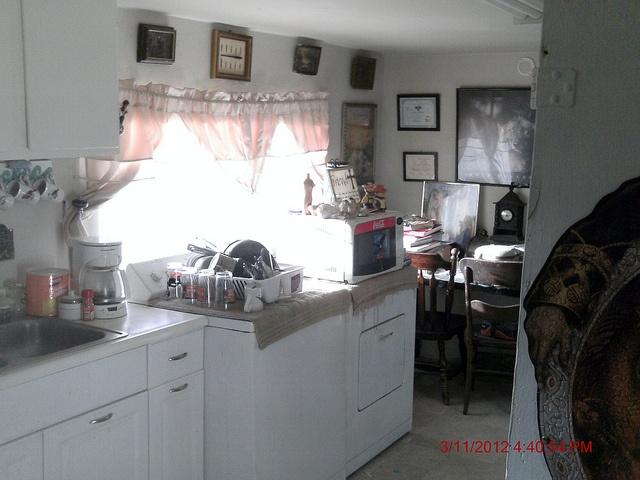Kursi: (458, 257, 524, 412)
Lemari: (0, 324, 207, 479)
